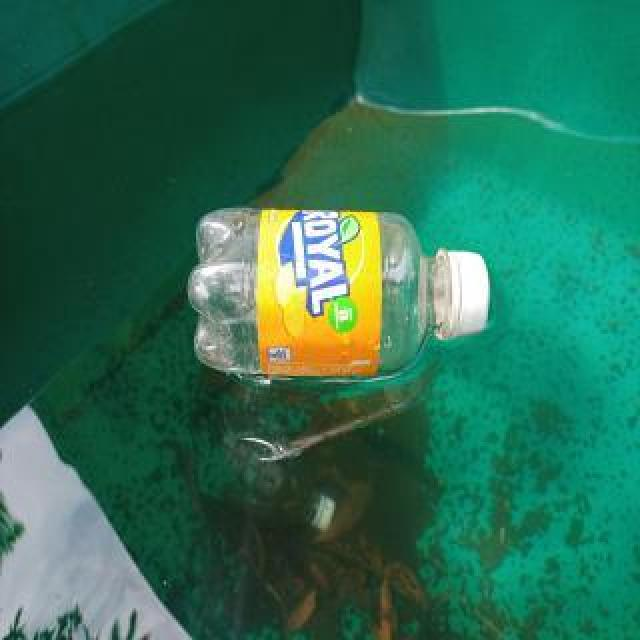bottle: (186, 201, 492, 389)
